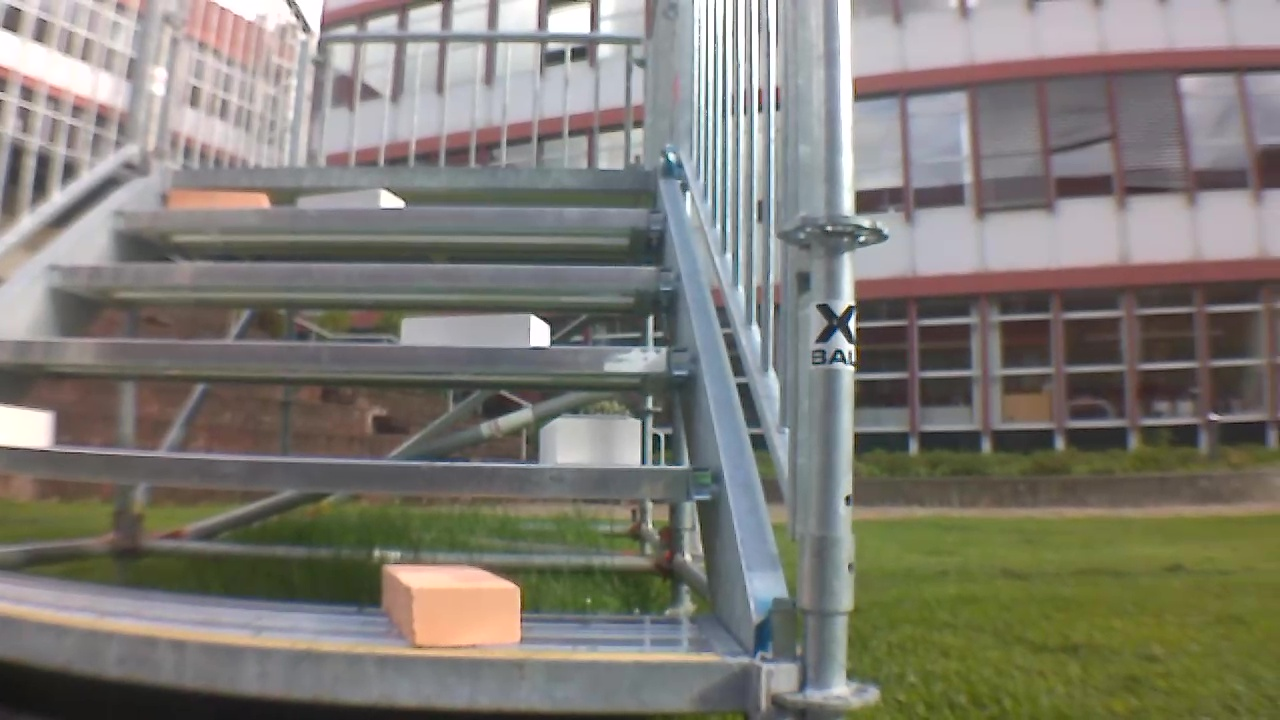brick: (383, 565, 521, 645), (401, 313, 550, 347), (540, 417, 640, 464), (298, 189, 404, 209), (2, 404, 50, 447), (170, 190, 267, 206)
edge: (3, 613, 748, 714), (0, 448, 723, 499), (2, 341, 691, 373), (44, 262, 681, 290), (114, 208, 663, 231), (167, 168, 655, 189)
stairs: (2, 2, 880, 716)
steps: (2, 149, 758, 718)
